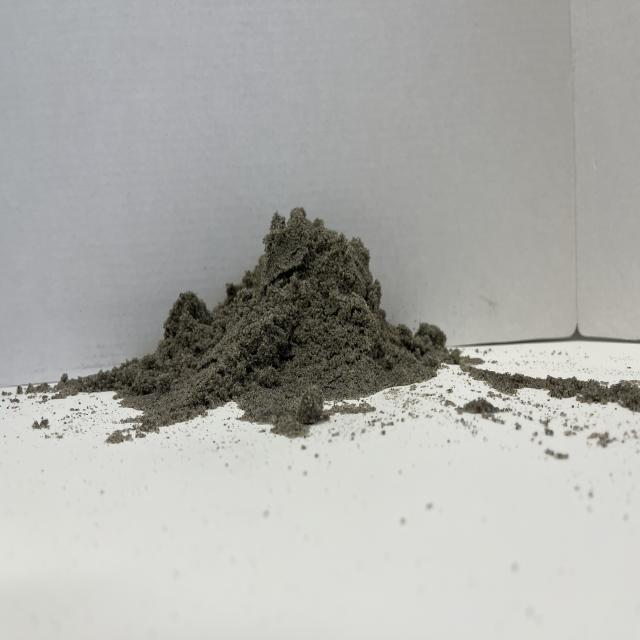sand: (90, 182, 478, 443)
